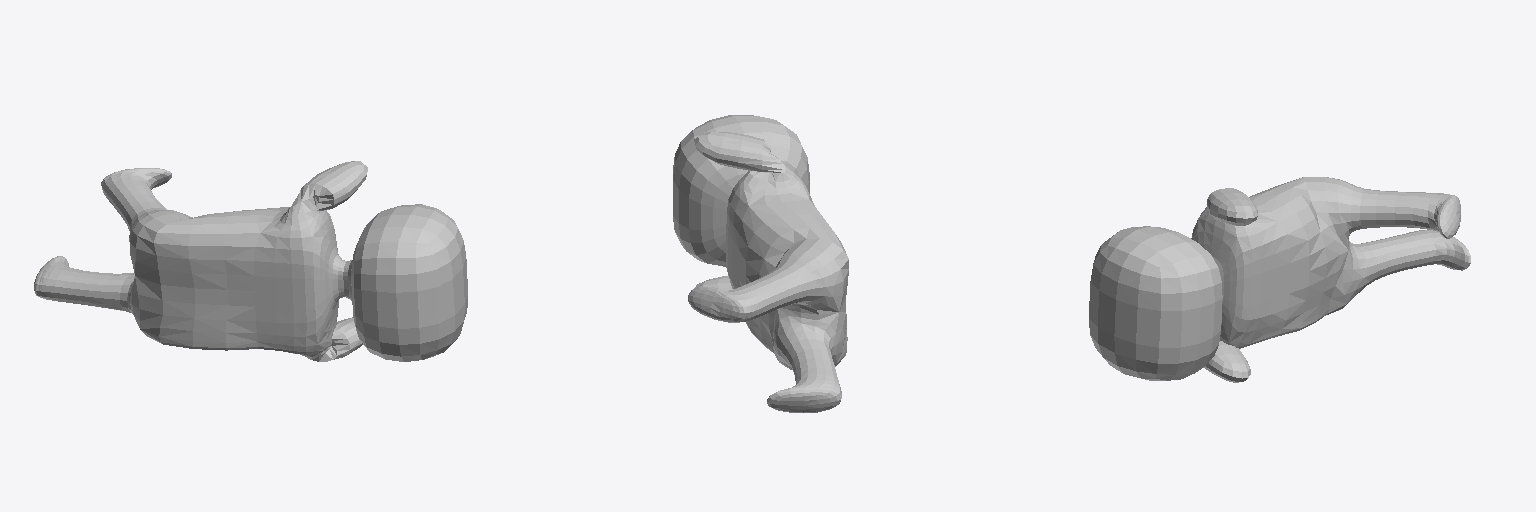
The model's file is antman_push_9.obj.
3 renders of one model, left to right at view 1: azimuth 30°, elevation 25°; view 2: azimuth 150°, elevation 25°; view 3: azimuth 270°, elevation 25°, orthographic.
Visible parts, largest first — view 1: Cube; view 2: Cube; view 3: Cube.
Part boxes in pixels (bbox=[...]): Cube: bbox=[34, 161, 467, 361]; Cube: bbox=[673, 115, 848, 412]; Cube: bbox=[1089, 177, 1470, 382].
Size of the model in its own units: 1.45 by 0.8339 by 1.63.